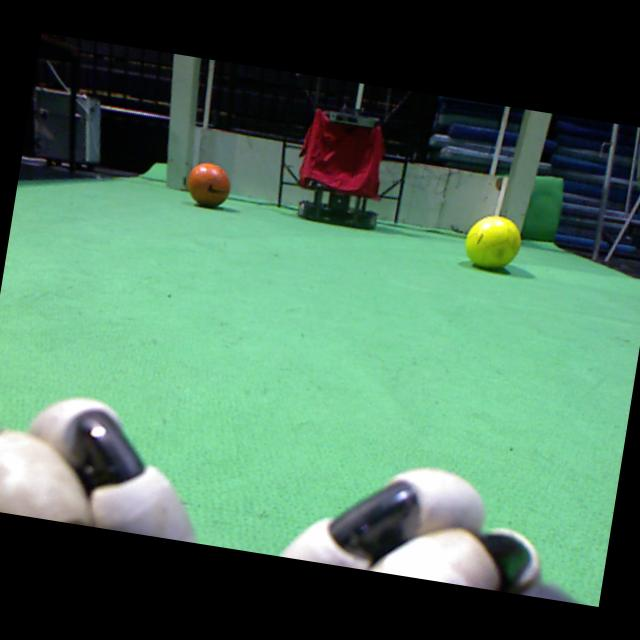ball: (466, 217, 521, 268), (189, 163, 230, 207)
goal: (506, 111, 552, 238), (165, 54, 194, 192)
